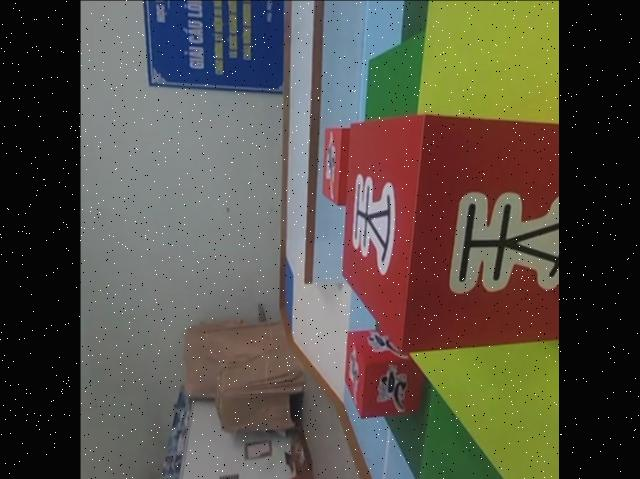R1: (341, 327, 425, 421)
R2 Real: (339, 117, 560, 354)
